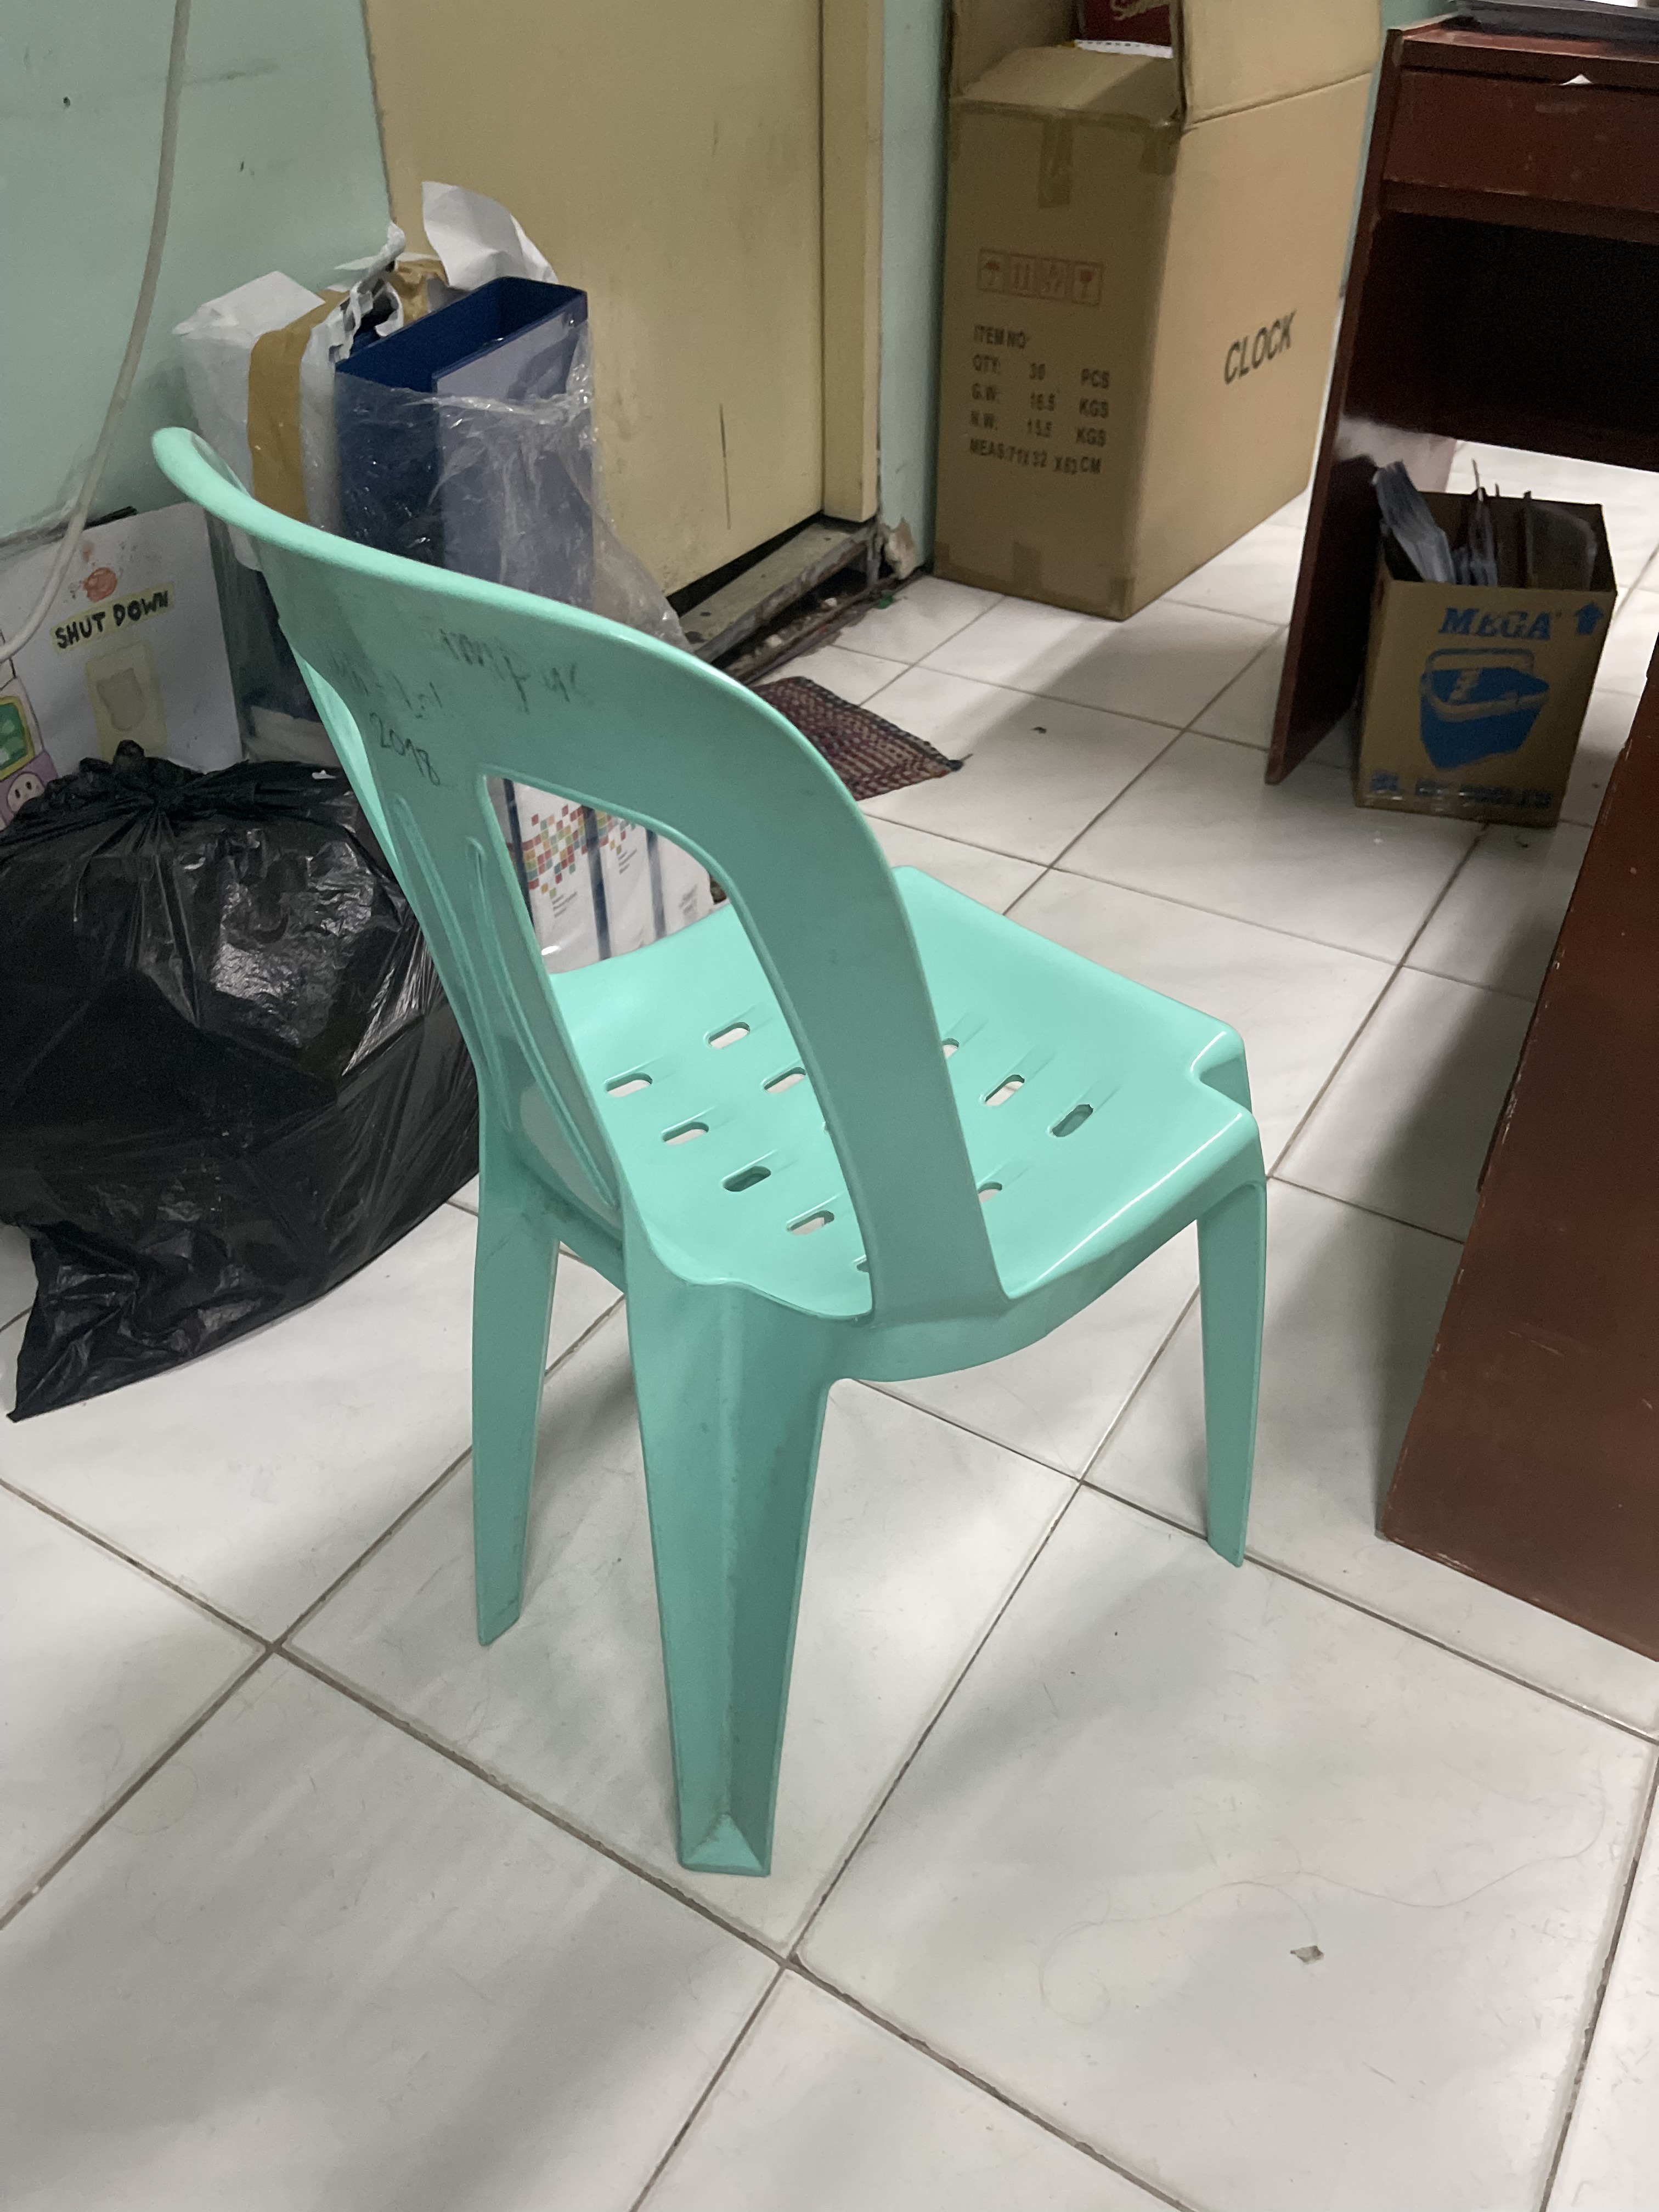chair2: (143, 416, 1291, 1874)
